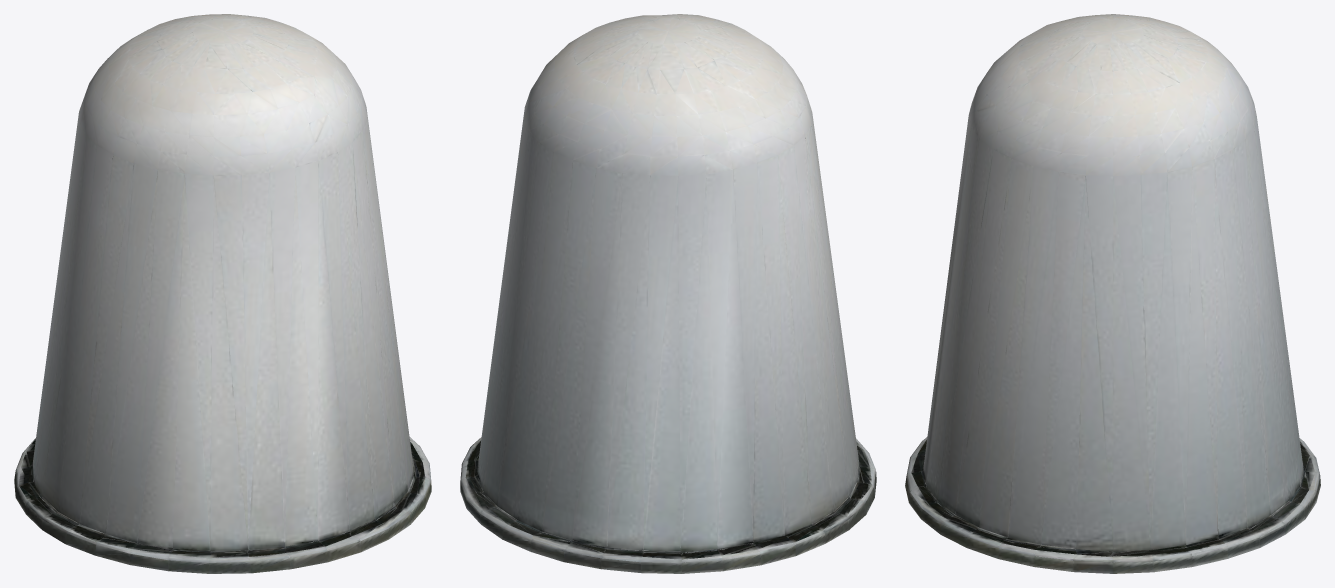
The model's file is kThimble.glb.
3 renders of one model, left to right at view 1: azimuth 30°, elevation 25°; view 2: azimuth 150°, elevation 25°; view 3: azimuth 270°, elevation 25°, orthographic.
Visible parts, largest first — view 1: Mesh_0; view 2: Mesh_0; view 3: Mesh_0.
Boxes of the visible parts, box(x1,y1,x2,y2) form: Mesh_0: box(14, 14, 431, 573); Mesh_0: box(460, 14, 876, 573); Mesh_0: box(905, 14, 1320, 573).
Bounding box in the file's own units: 4.42 × 5.3 × 4.41.
Materials: 1 (1 with a texture image).
